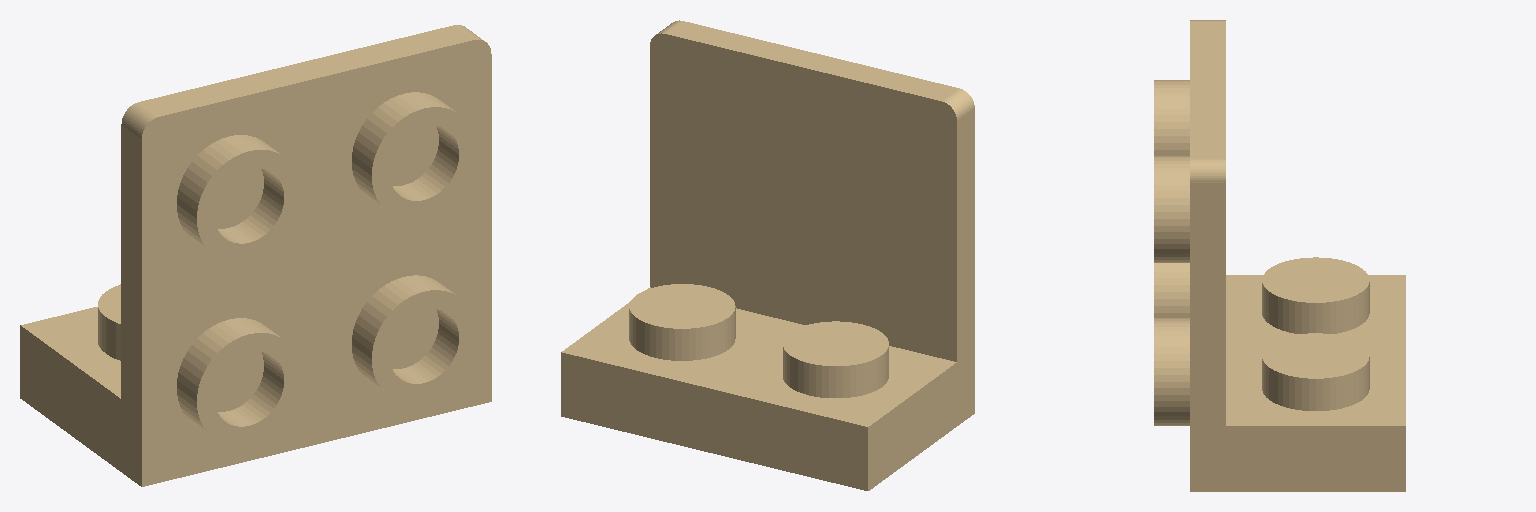
robot.urdf — 99207__tan:
<?xml version="1.0"?>
<robot name="99207__tan">
  <link name="99207__tan">
    <inertial>
      <origin xyz="0.000000 -0.002616 0.003240" rpy="0 0 0"/>
      <mass value="0.002065"/>
      <inertia ixx="5.289587295e-08" ixy="-1.421176163e-24" ixz="4.711691138e-25" iyy="7.882450187e-08" iyz="1.021042271e-08" izz="5.936600943e-08"/>
    </inertial>
    <visual>
      <geometry>
        <mesh filename="../meshes/visual/99207.obj" scale="1 1 1"/>
      </geometry>
      <material name="99207__tan_color">
        <color rgba="0.860 0.770 0.610 1.000"/>
      </material>
    </visual>
    <collision>
      <geometry>
        <mesh filename="../meshes/collision/99207_hull.obj" scale="1 1 1"/>
      </geometry>
    </collision>
  </link>
</robot>

--- What the picture shows (computed from the rendered views, not written in the file) ---
Views: 3 orthographic renders of the robot side by side, from view 1: azimuth 30°, elevation 25°; view 2: azimuth 150°, elevation 25°; view 3: azimuth 270°, elevation 25°.
Model 99207__tan with 1 links and 0 joints (none), rooted at 99207__tan, posed every joint at zero.
Links seen in each view (by area): view 1: 99207__tan; view 2: 99207__tan; view 3: 99207__tan.
Link boxes in pixels (bbox=[...]): 99207__tan: bbox=[20, 25, 491, 486]; 99207__tan: bbox=[561, 20, 974, 490]; 99207__tan: bbox=[1154, 20, 1405, 491].
Bounding box of the posed robot: 0.016 × 0.0112 × 0.016 m (x, y, z).
1 mesh visuals loaded from 1 distinct referenced files (1 OBJ).
